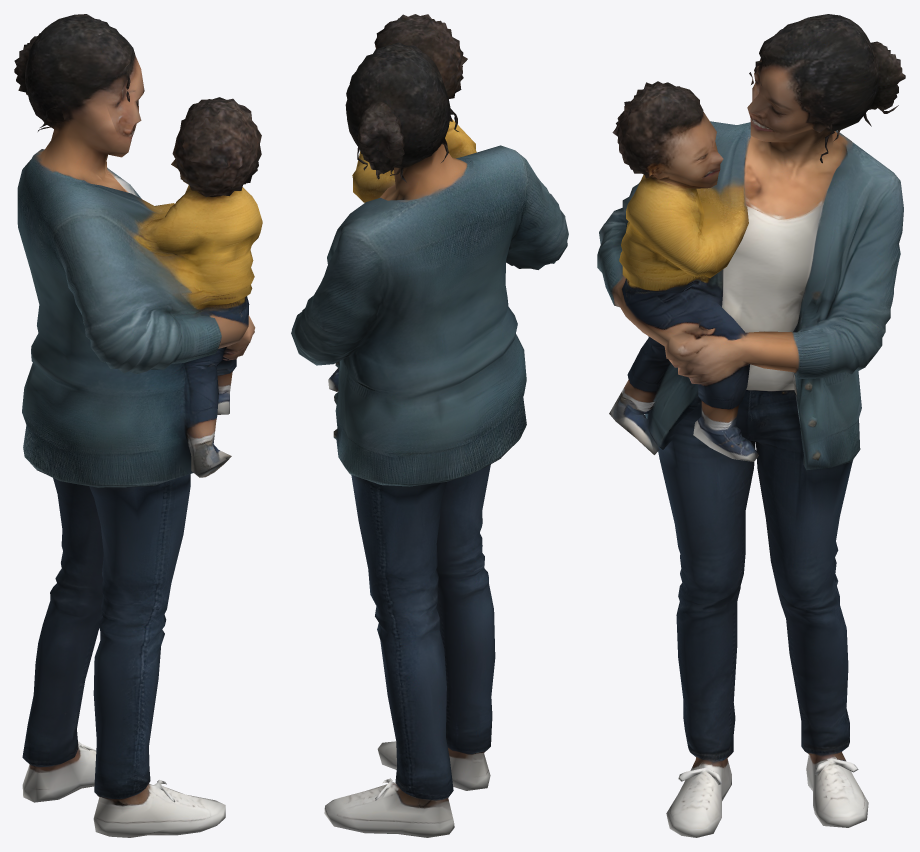
The model's file is hotel_guest_woman_child_rebuilt.glb.
3 renders of one model, left to right at view 1: azimuth 30°, elevation 25°; view 2: azimuth 150°, elevation 25°; view 3: azimuth 270°, elevation 25°, orthographic.
Parts seen in each view (by area): view 1: tripo_node_afd043ce-36e8-43d6-ad15-a33237503a5c; view 2: tripo_node_afd043ce-36e8-43d6-ad15-a33237503a5c; view 3: tripo_node_afd043ce-36e8-43d6-ad15-a33237503a5c.
Boxes of the visible parts, x1,y1,x2,y2 form: tripo_node_afd043ce-36e8-43d6-ad15-a33237503a5c: (14,14,262,837); tripo_node_afd043ce-36e8-43d6-ad15-a33237503a5c: (291,14,568,837); tripo_node_afd043ce-36e8-43d6-ad15-a33237503a5c: (597,14,905,837).
Size of the model in its own units: 0.252 by 0.998 by 0.3574.
1 material, 1 textured.
